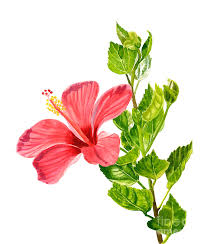hybiscus: (16, 81, 135, 186)
